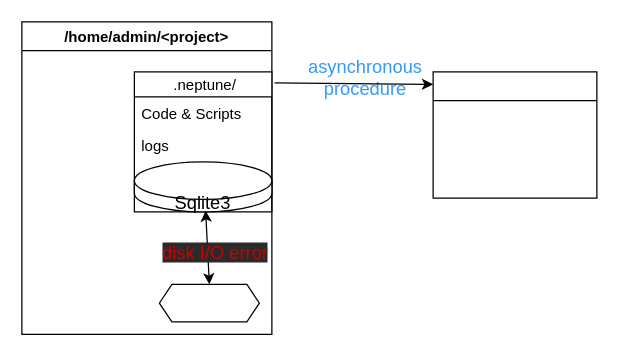
This 619x356 diagram has some shape labels left out. Here are the shapes that lost their labels. From the top down, the centre of each, then its label:
At [514,134]: "Neptune AI Cloud".
At [208,302]: "Optuna".
